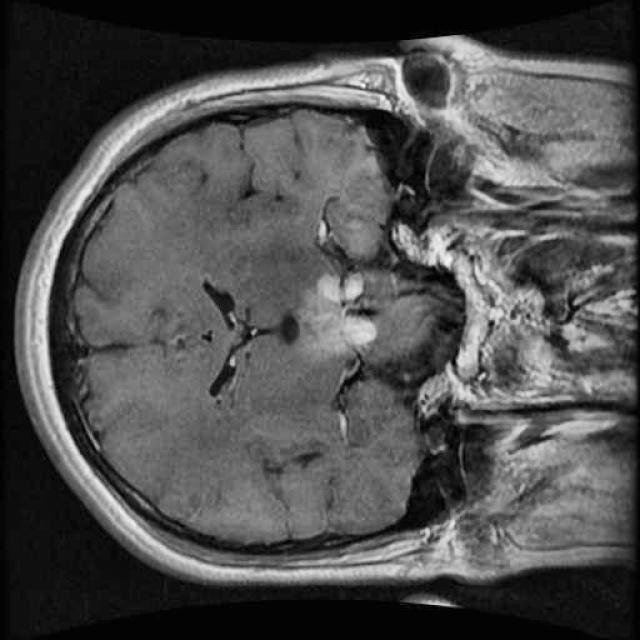Tumor: (281, 264, 388, 369)
